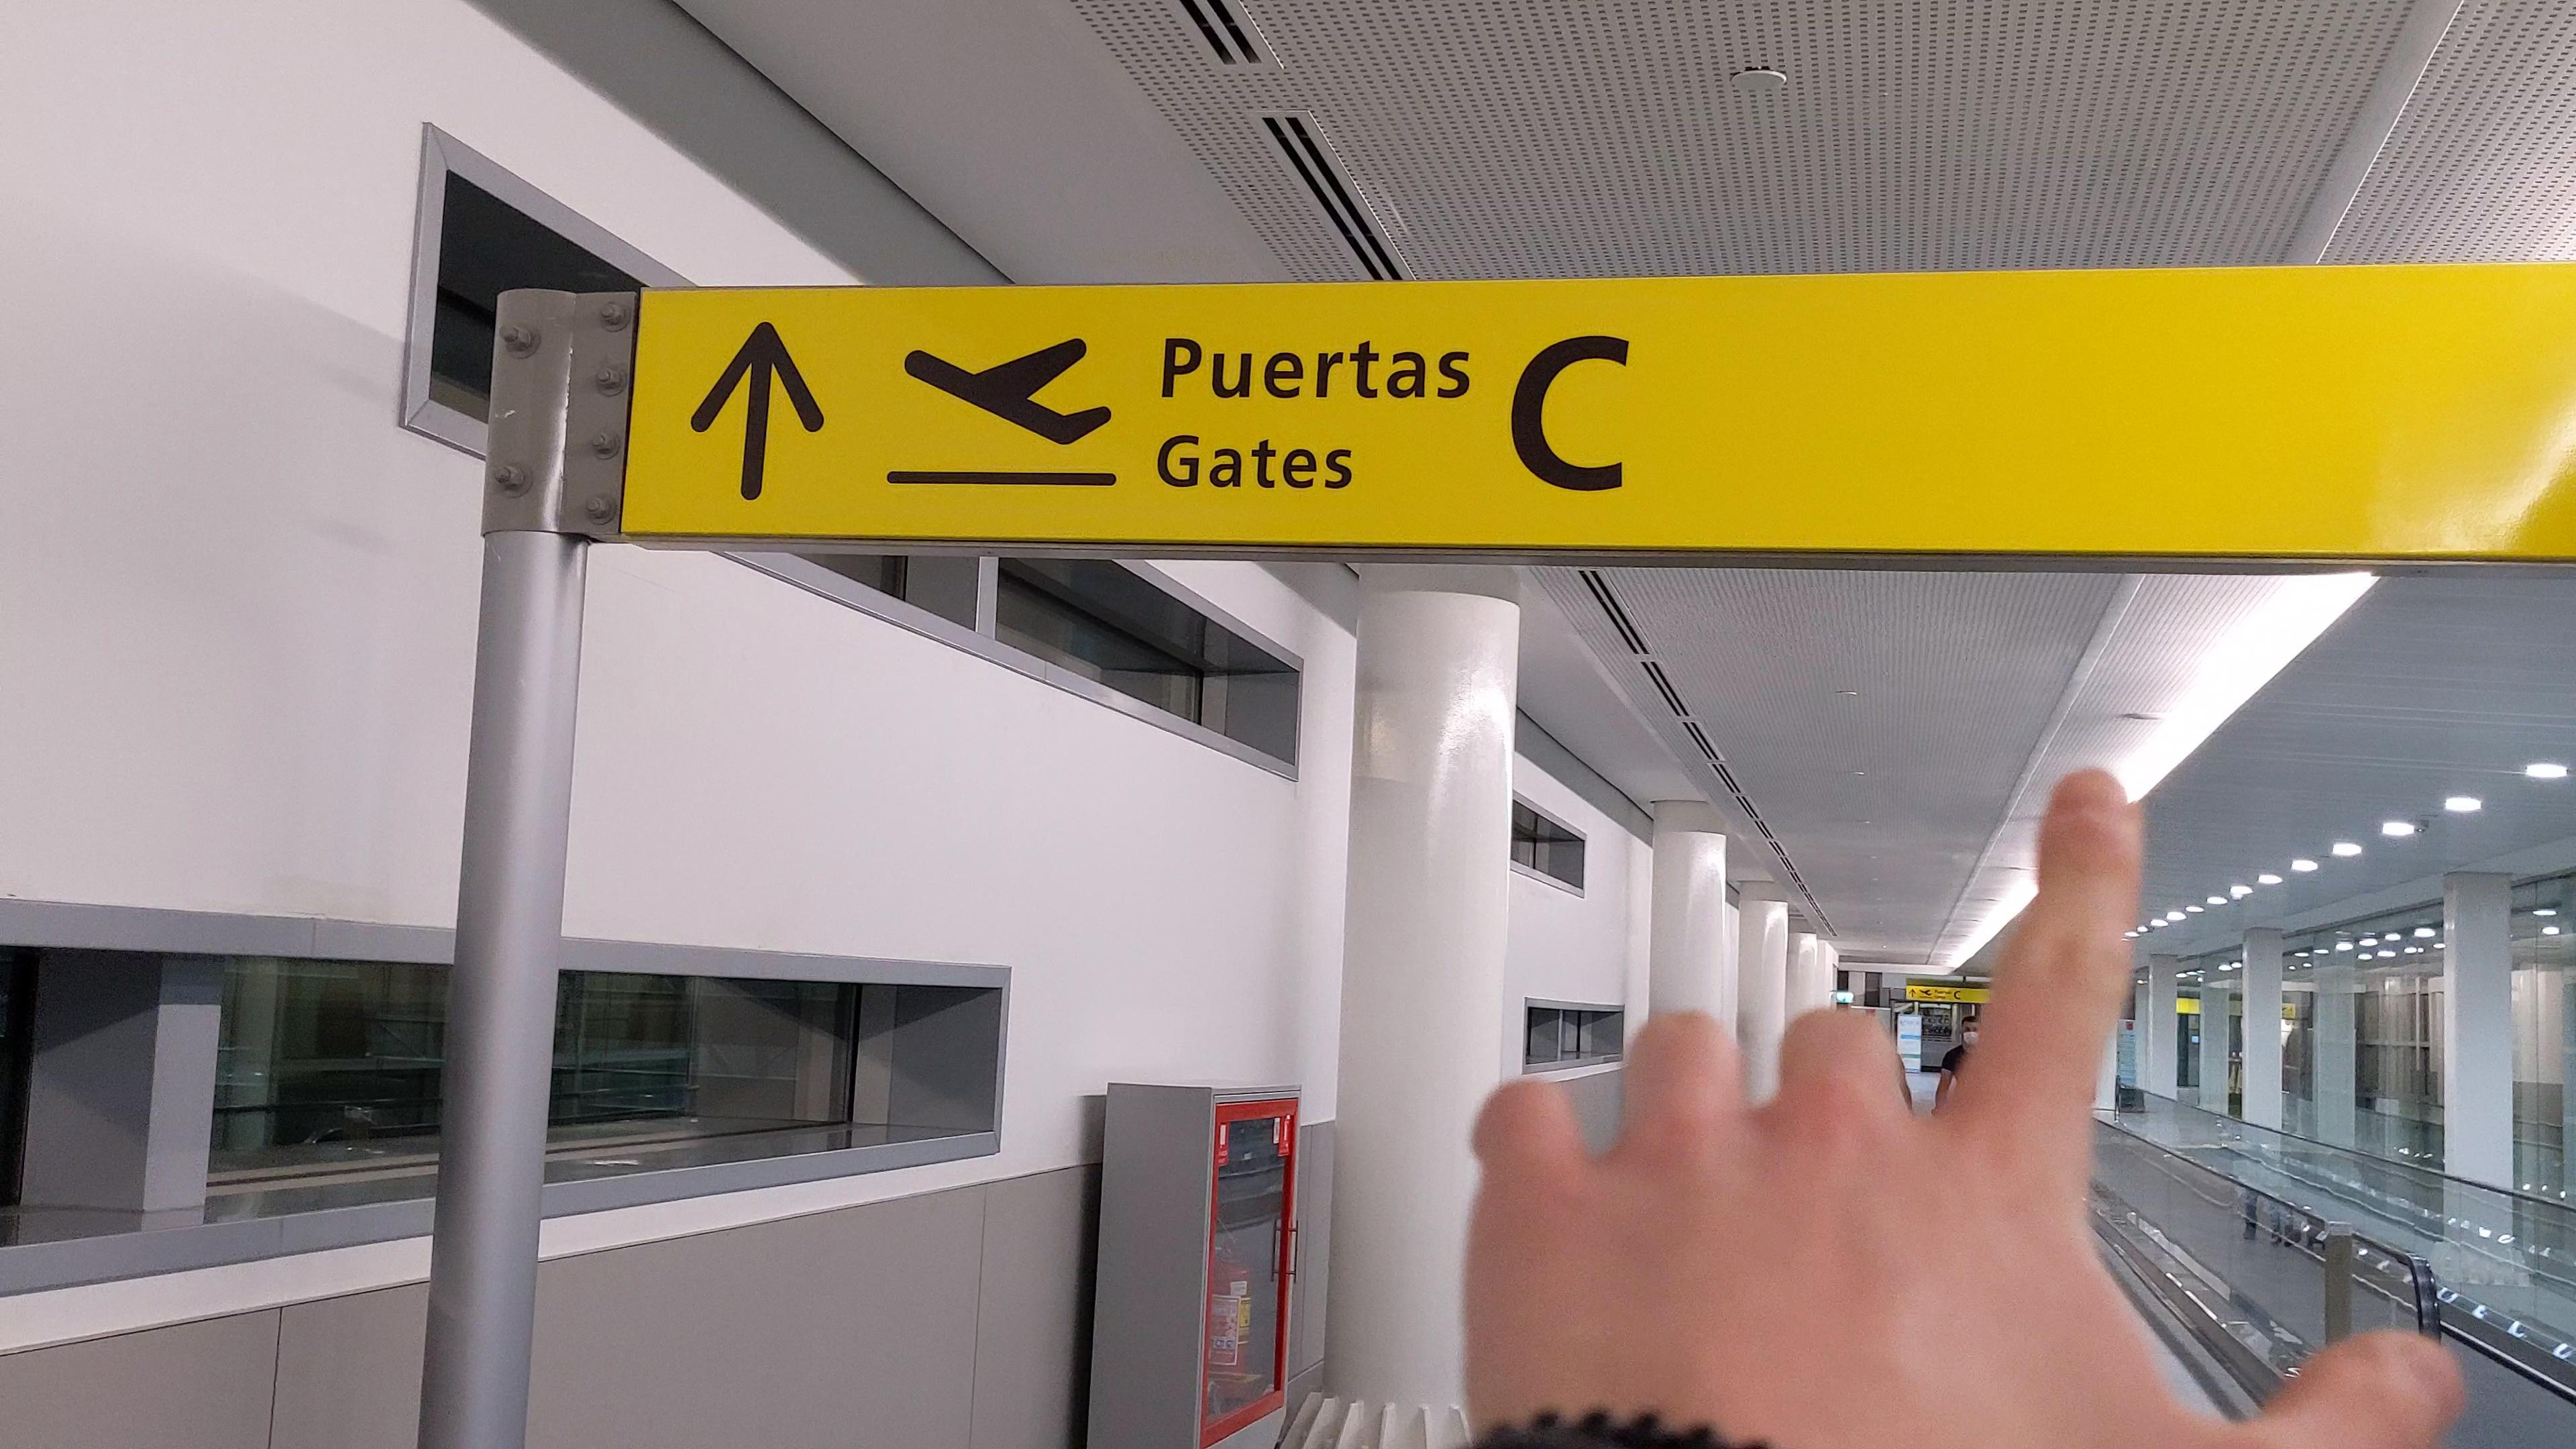airplane symbol: (899, 340, 1115, 444)
fire-extinguisher: (1210, 1235, 1253, 1394)
thin up arrow: (686, 317, 832, 504)
